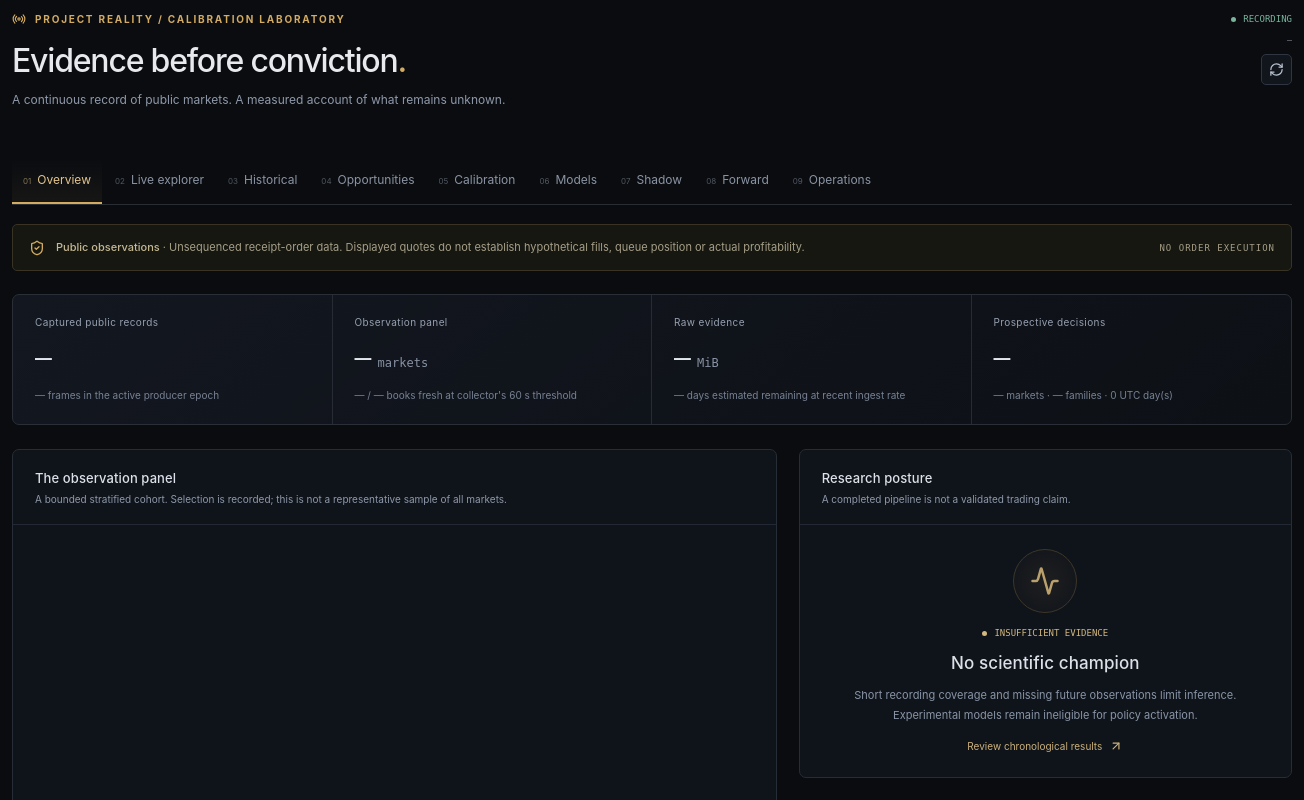
shows empty prospective candidates without treating them as profit
This screenshot has width=1304, height=800.
Check: the heading "The observation panel" is shown, box [35, 470, 176, 486]
Click the button "04Opportunities": (368, 182) [310, 159, 426, 204]
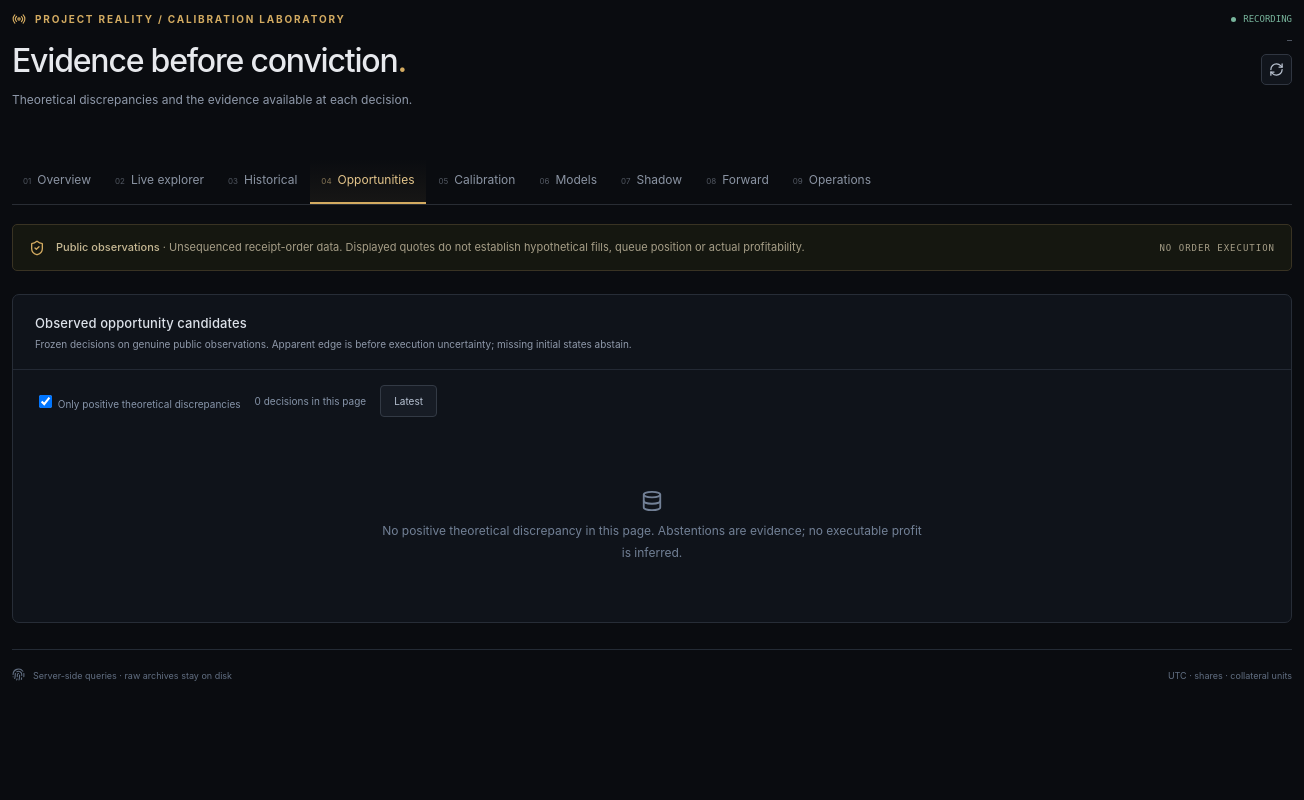
Check: the text "No positive theoretical discrepancy in this page" is shown, box [382, 524, 922, 560]
Check: the checkbox is checked, box [39, 395, 52, 408]
